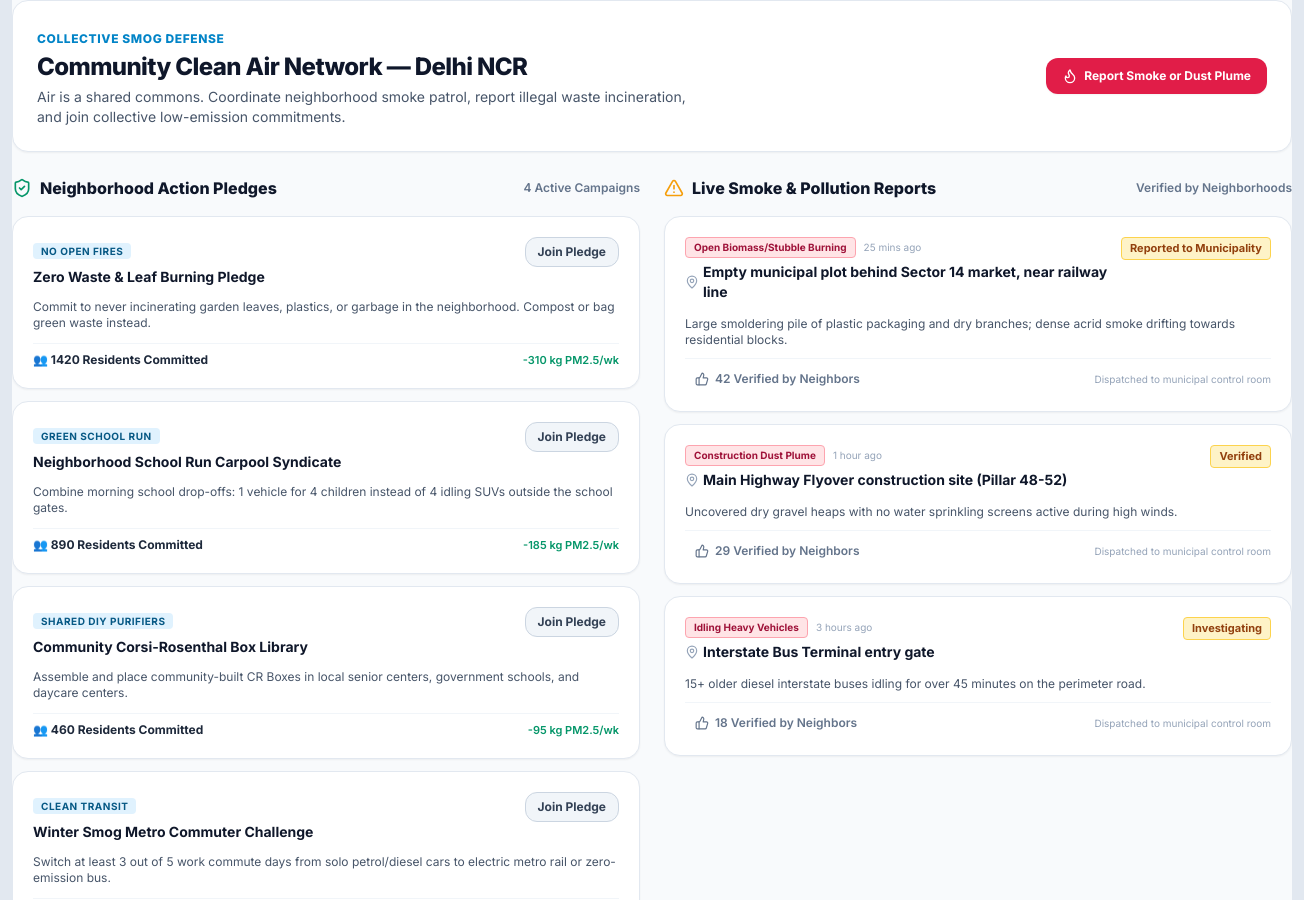
Test: CommunityActionHub Component › allows joining and withdrawing from a community pledge
Join pledge
What coordinates should you click on to do the following:
click the button "Join Pledge" in the row of "No Open Fires"
I would click on:
 (572, 252)
Its box is [525,237,619,267].
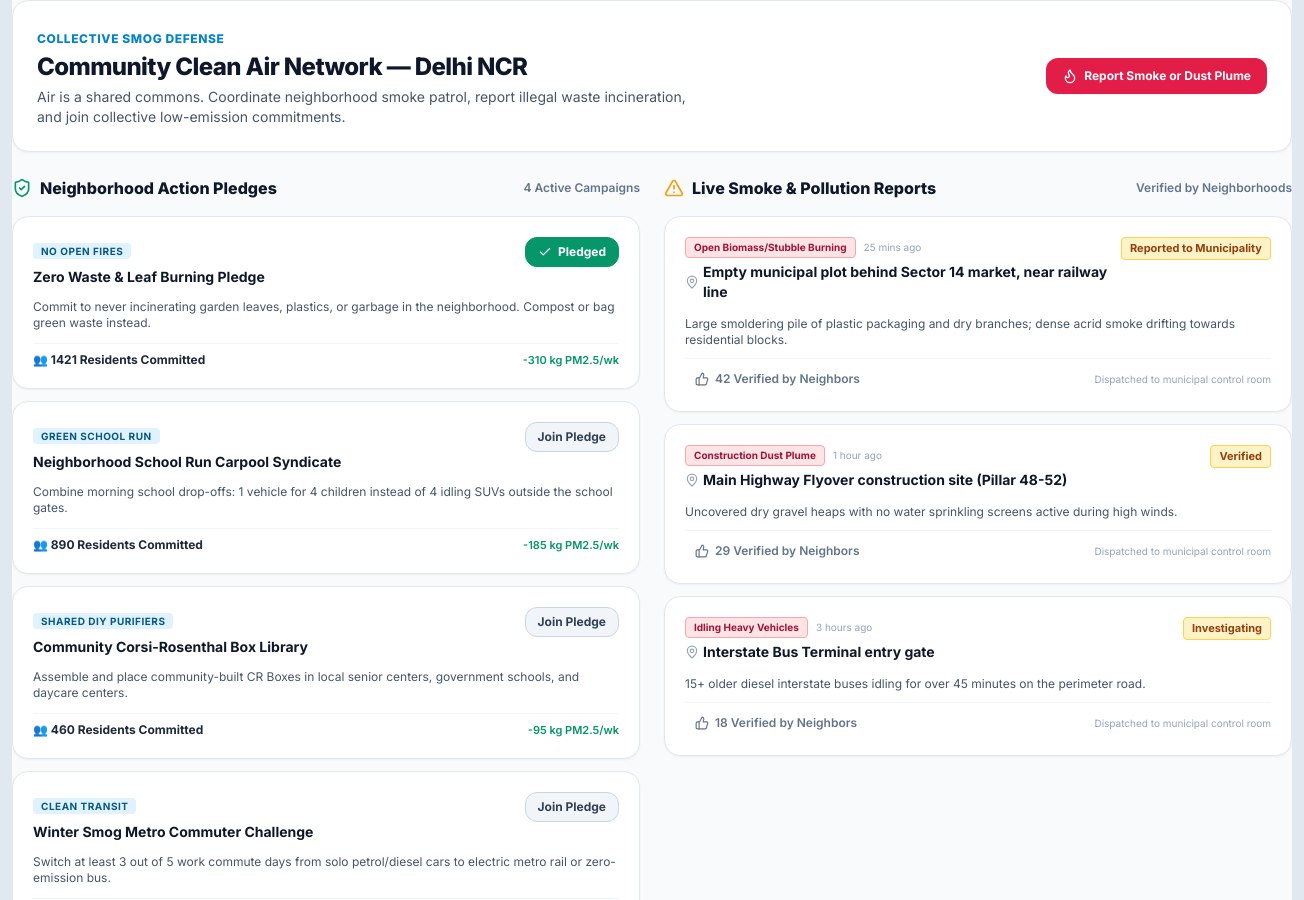
Now the button "Pledged" is shown
Withdraw from pledge
What coordinates should you click on to do the following:
click the button "Pledged"
I would click on:
 (572, 252)
Its box is [525,237,619,267].
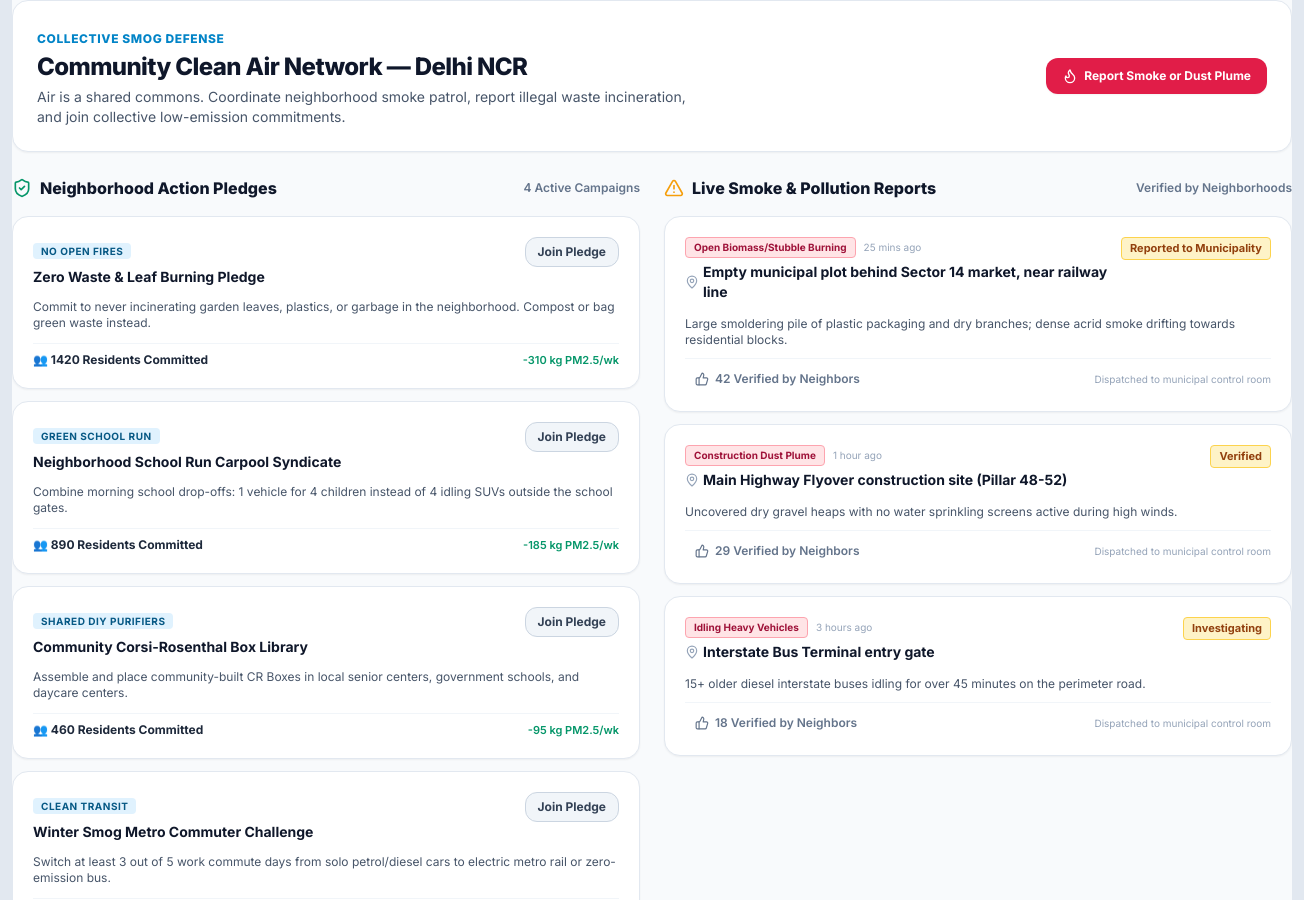
Now the button named "Pledged" reads "Join Pledge", box [525,237,619,267]
